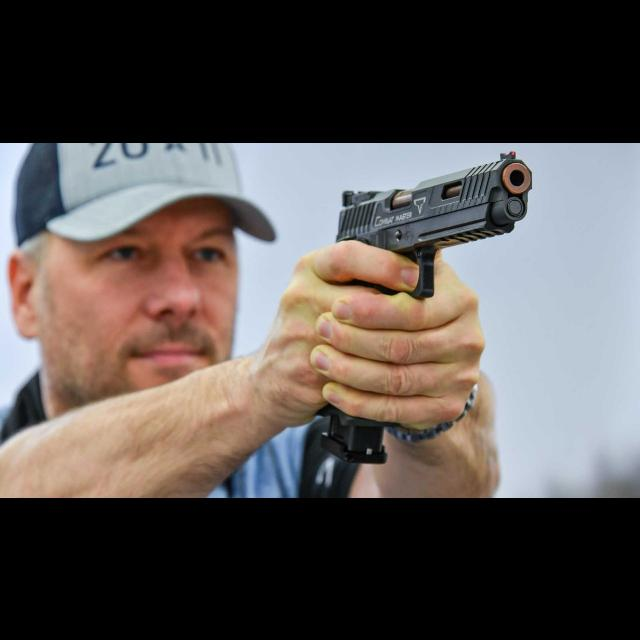handgun: (329, 148, 537, 302)
